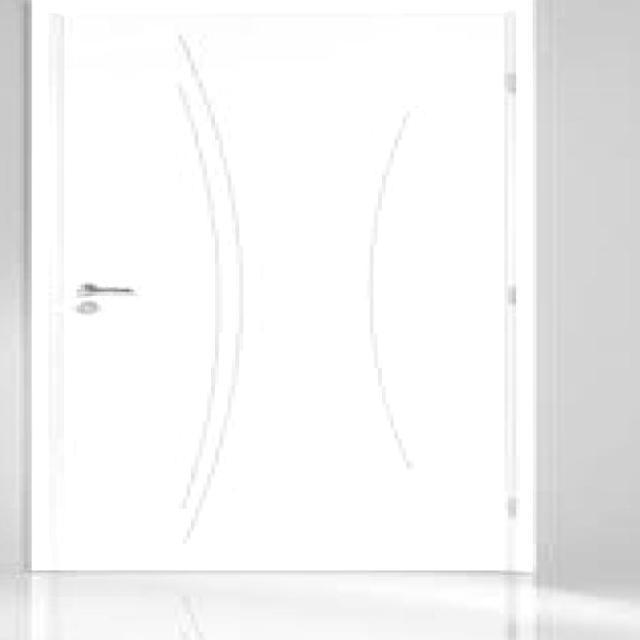door: (24, 0, 534, 575)
